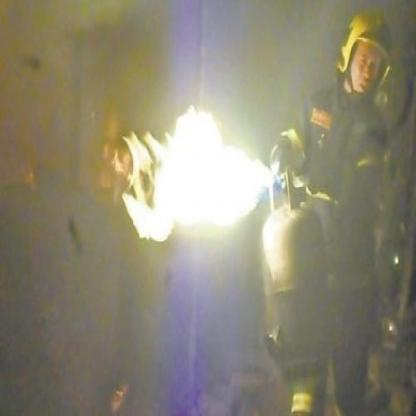fire: (109, 98, 282, 246), (108, 375, 127, 409)
other: (324, 4, 402, 98), (280, 372, 317, 411), (304, 91, 338, 131), (292, 173, 334, 205), (278, 116, 307, 156), (352, 147, 393, 170)
